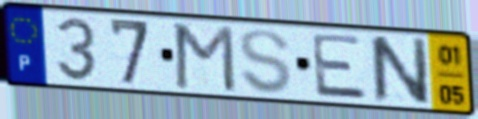3: (50, 15, 100, 83)
7: (107, 15, 152, 88)
E: (308, 31, 371, 102)
M: (173, 21, 239, 95)
N: (366, 33, 433, 107)
S: (237, 26, 295, 97)
